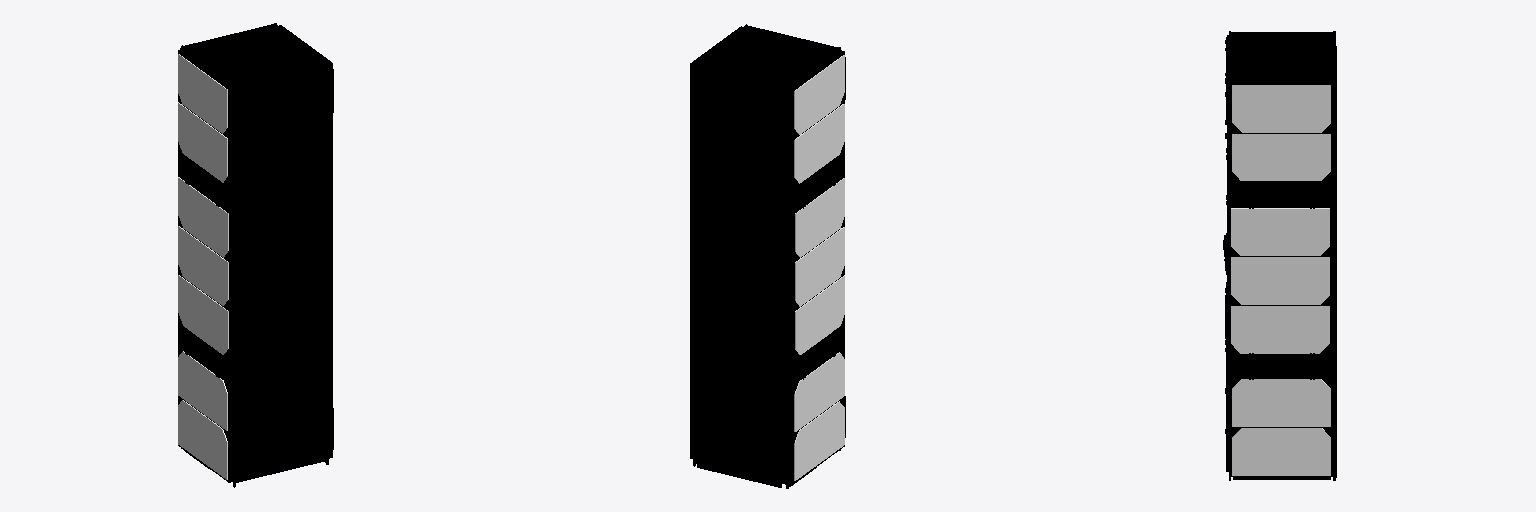
The model's file is ICECube-label-solar_panel.obj.
The picture shows the model from 3 angles: view 1: azimuth 30°, elevation 25°; view 2: azimuth 150°, elevation 25°; view 3: azimuth 270°, elevation 25°; orthographic projection.
Parts seen in each view (by area): view 1: ICECube-label-solar_panel; view 2: ICECube-label-solar_panel; view 3: ICECube-label-solar_panel.
Part boxes in pixels (x1,y1,x2,y2): ICECube-label-solar_panel: (178, 23, 333, 487); ICECube-label-solar_panel: (690, 24, 845, 488); ICECube-label-solar_panel: (1223, 31, 1336, 480).
Bounding box in the file's own units: 0.4955 × 1.76 × 0.4489.